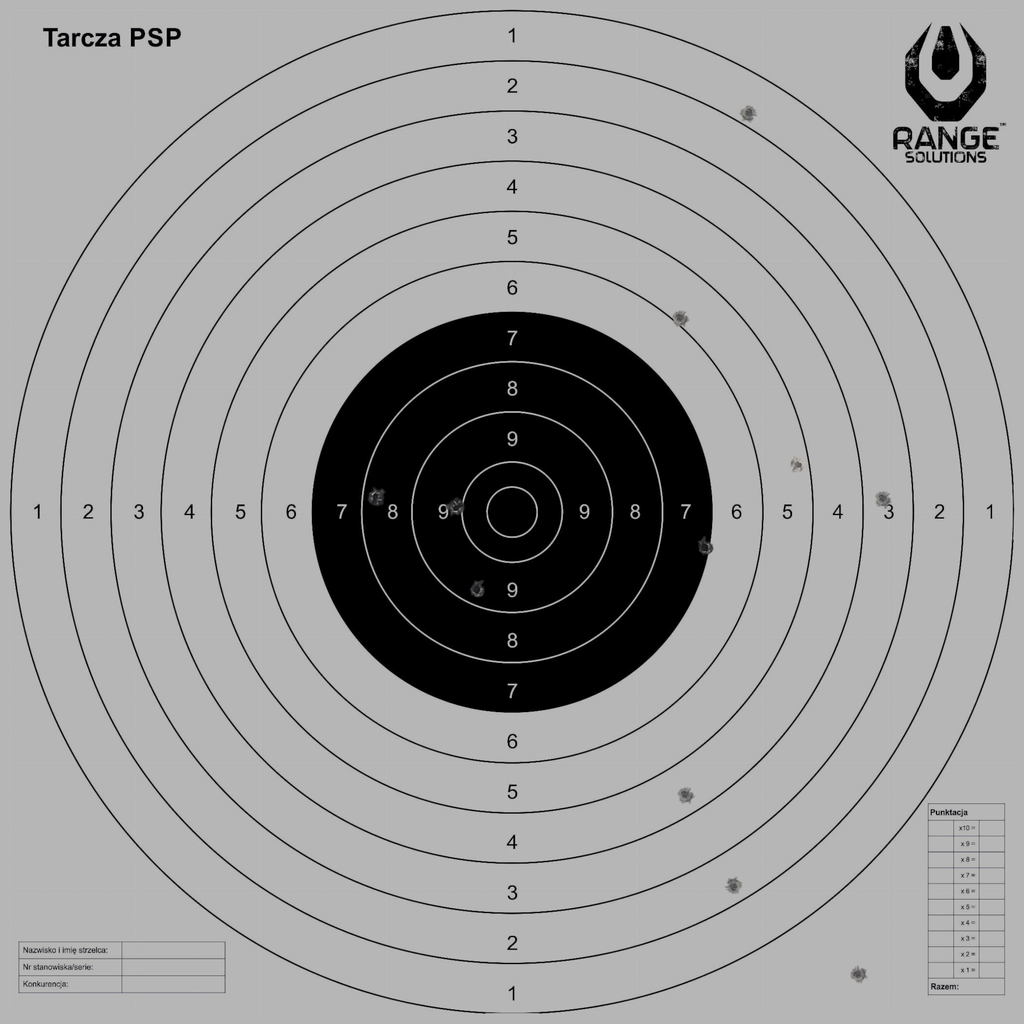0 punktow: (849, 965, 867, 984)
1 punkt: (739, 104, 758, 122)
10 punktow: (447, 499, 465, 517)
2 punkty: (724, 877, 743, 896)
3 punkty: (873, 489, 892, 508)
4 punkty: (676, 786, 695, 804)
5 punktow: (789, 456, 807, 474)
6 punktow: (671, 309, 689, 327)
7 punktow: (696, 538, 714, 556)
8 punktow: (367, 487, 385, 506)
9 punktow: (468, 580, 486, 599)
